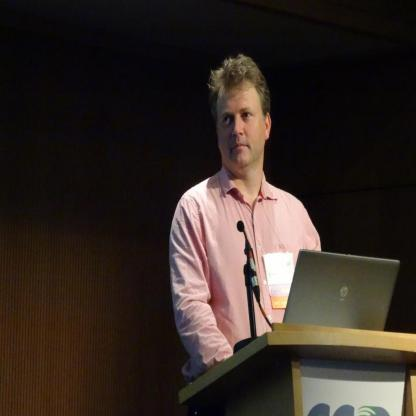board: (287, 255, 399, 354)
